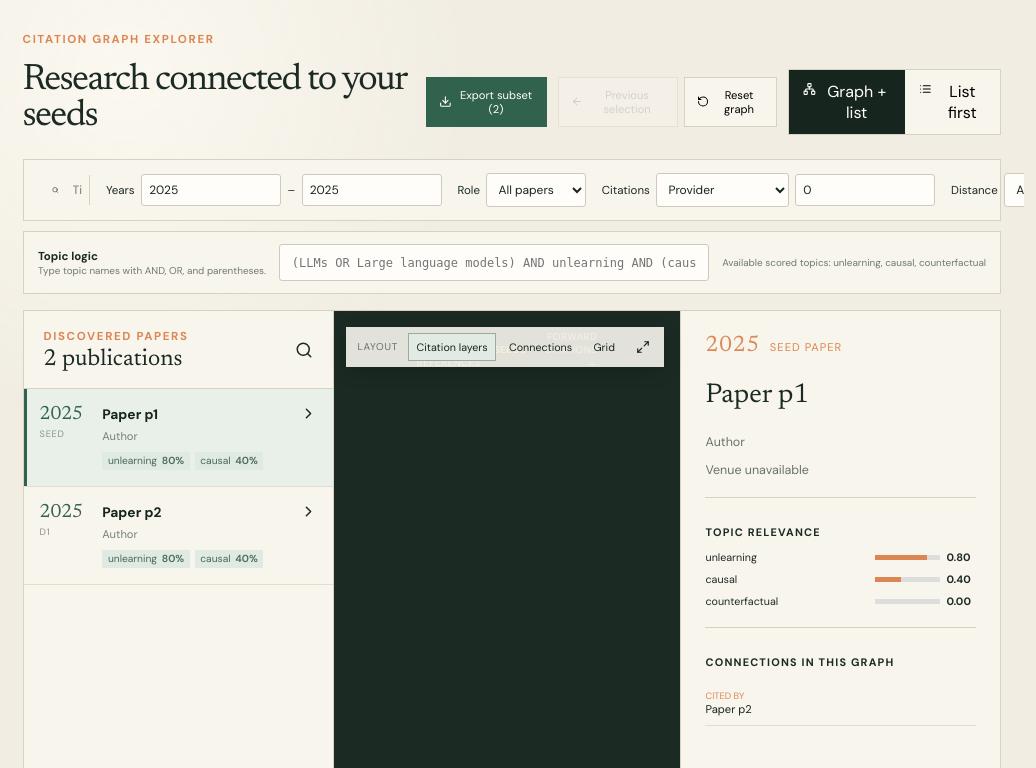
it: Explorer graph navigation › returns to the previous selection and resets filters
This screenshot has width=1036, height=768.
Click the button "2025 d1 Paper p2 Author unlearning 80% causal 40%" at (61, 513), box top-left (24, 487), bottom-right (332, 585)
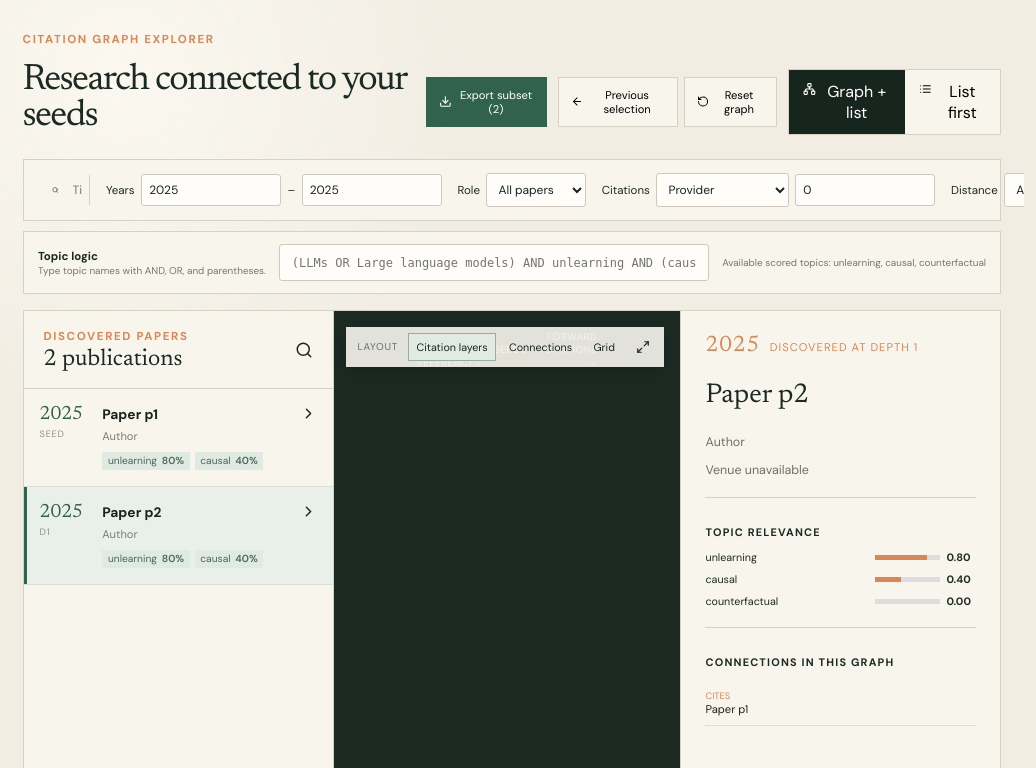
Now the button "2025 d1 Paper p2 Author unlearning 80% causal 40%" has class "selected", box top-left (24, 487), bottom-right (332, 585)
Click the button "Previous selection" at (618, 102), box top-left (558, 76), bottom-right (678, 127)
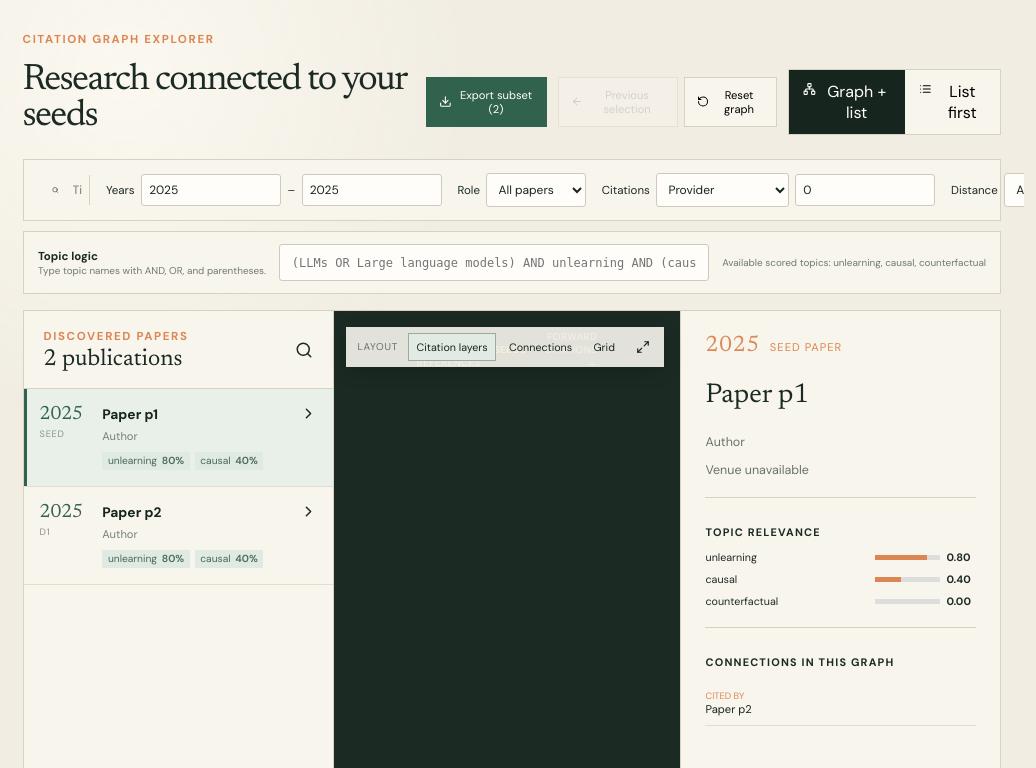
Now the button "2025 seed Paper p1 Author unlearning 80% causal 40%" has class "selected", box top-left (24, 389), bottom-right (332, 487)
Type "missing" into the field named "Search papers" at (77, 190), box top-left (65, 175), bottom-right (89, 205)
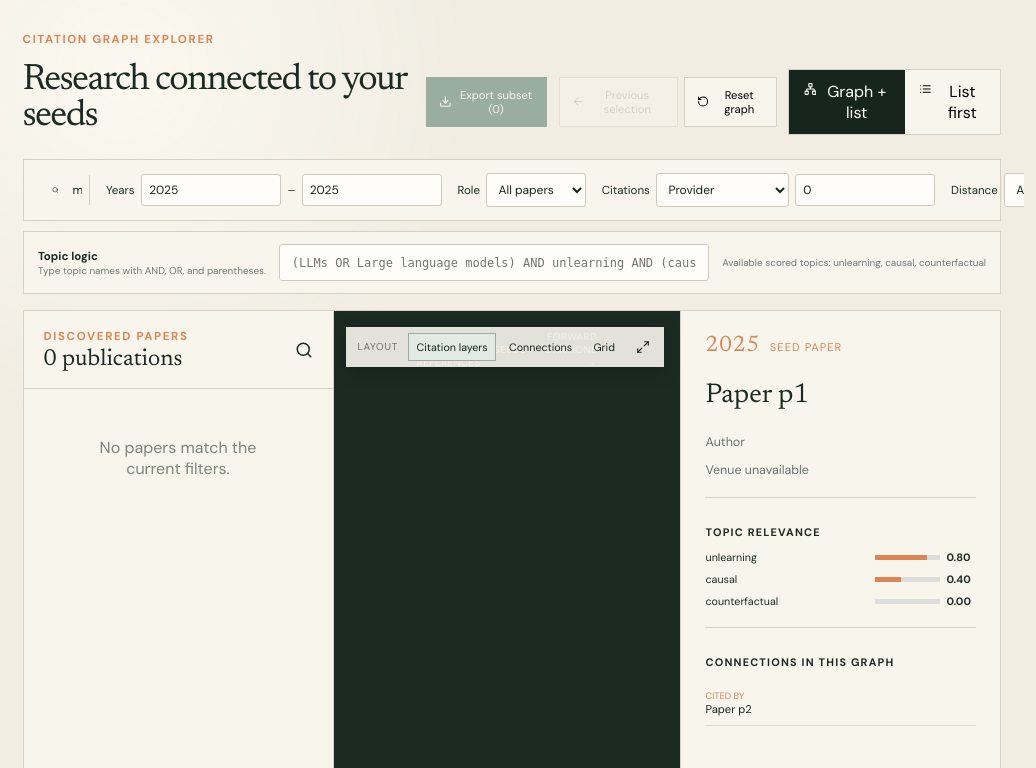
Now the text "No papers match the current filters." is shown, box top-left (100, 437), bottom-right (256, 479)
Click the button "Reset graph" at (730, 102), box top-left (684, 76), bottom-right (777, 127)
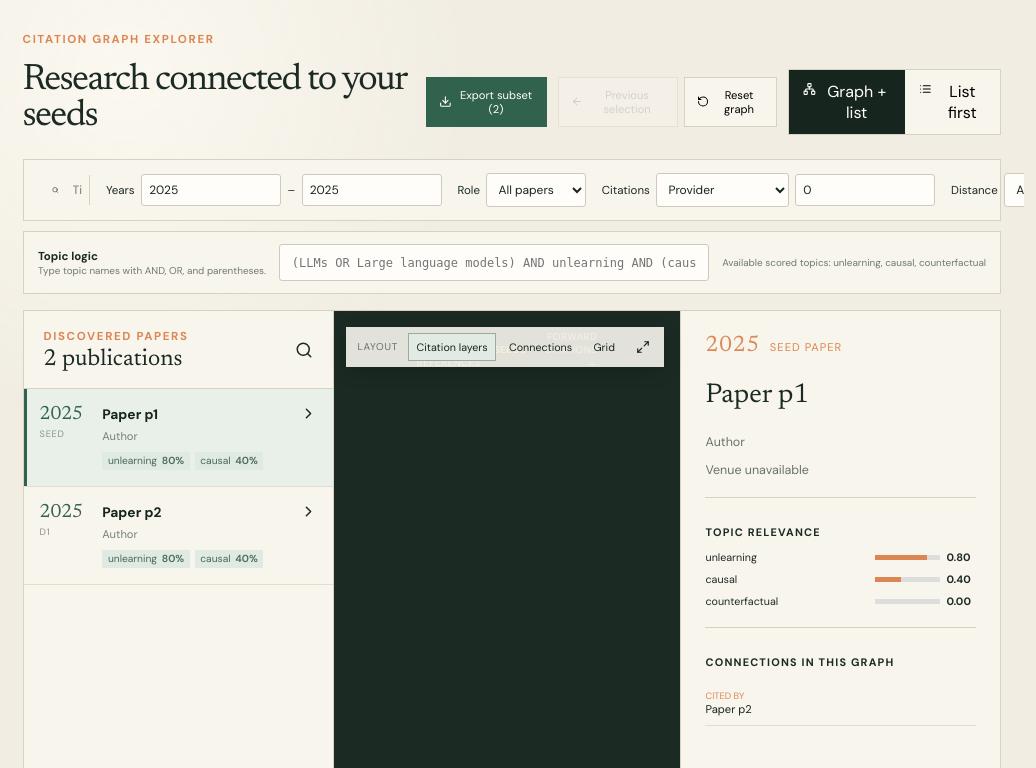
Now the heading "Paper p1" below "publications" is shown, box top-left (102, 405), bottom-right (158, 423)
Now the field named "Search papers" is empty, box top-left (65, 175), bottom-right (89, 205)
